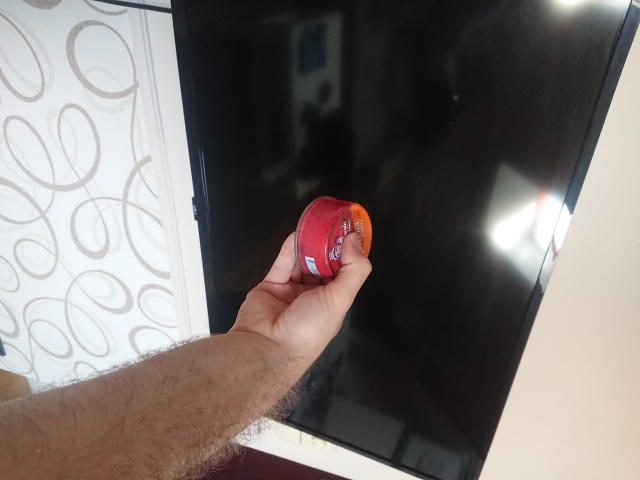Gavrilovic Pork Liver Pate 100g: (292, 193, 374, 284)
